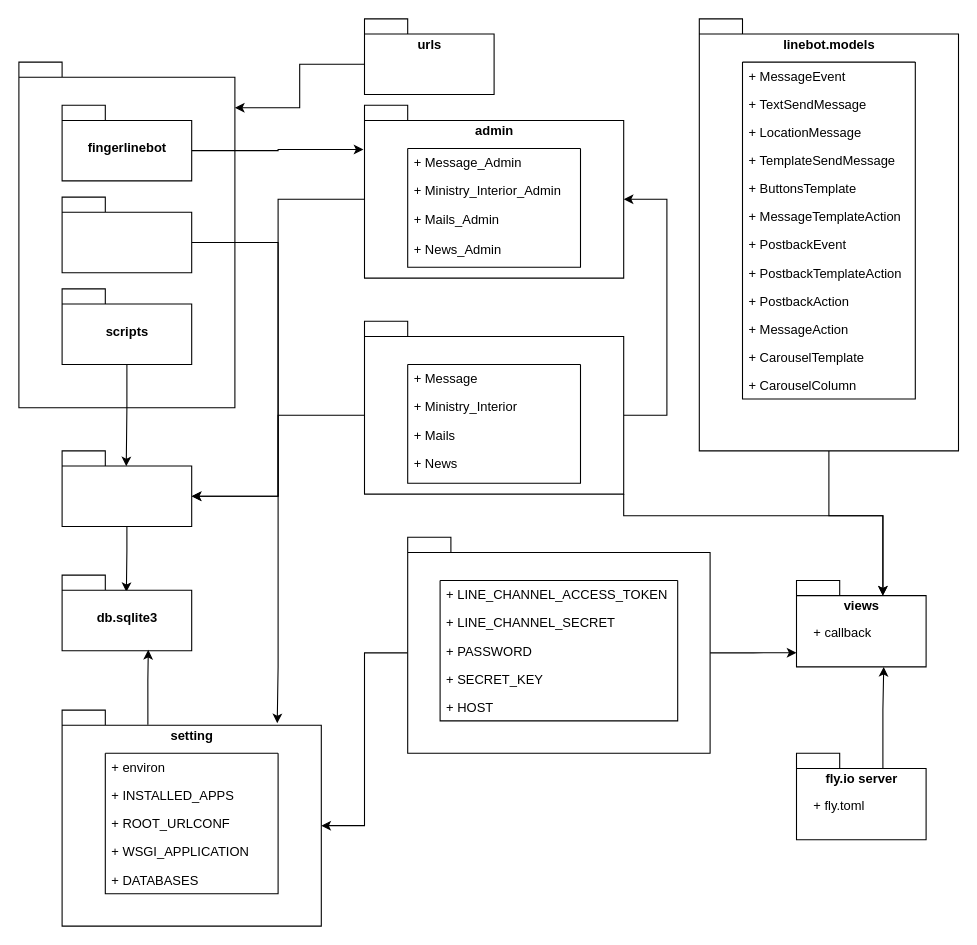
Image size: 977x945. Some labels were removed from this diagram. The shapes that lost their labels are listed below. From the top down, each one's box as (x1, y1, x2, y2) in pixels, then its label:
(18, 61, 235, 408): fingerout
(61, 196, 192, 273): mylinebot
(363, 320, 624, 494): models
(61, 450, 192, 526): load
(407, 536, 710, 753): env
